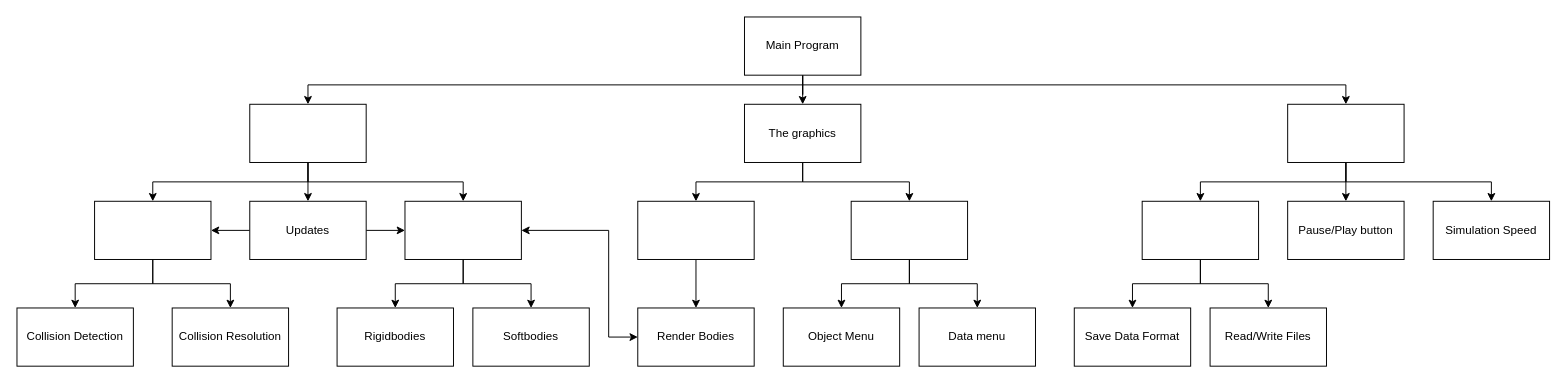
This 1567x383 diagram has some shape labels left out. The centre of each missing label's shape, as x and y in pixels:
"Bodies" goes at (462,229).
"Collisions" goes at (152,229).
"Render Menus" goes at (909,229).
"Render Simulation" goes at (695,229).
"Save and Load" goes at (1200,229).
"The Simulation" goes at (307,132).
"Utilities" goes at (1345,132).
